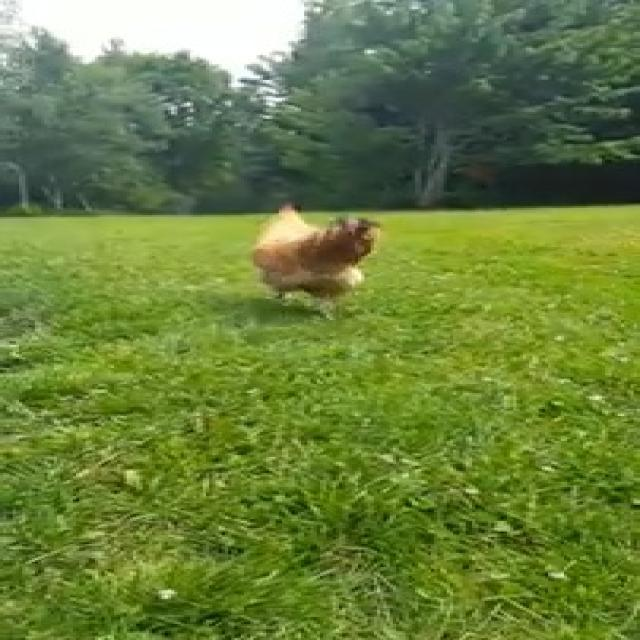running: (212, 194, 402, 313)
